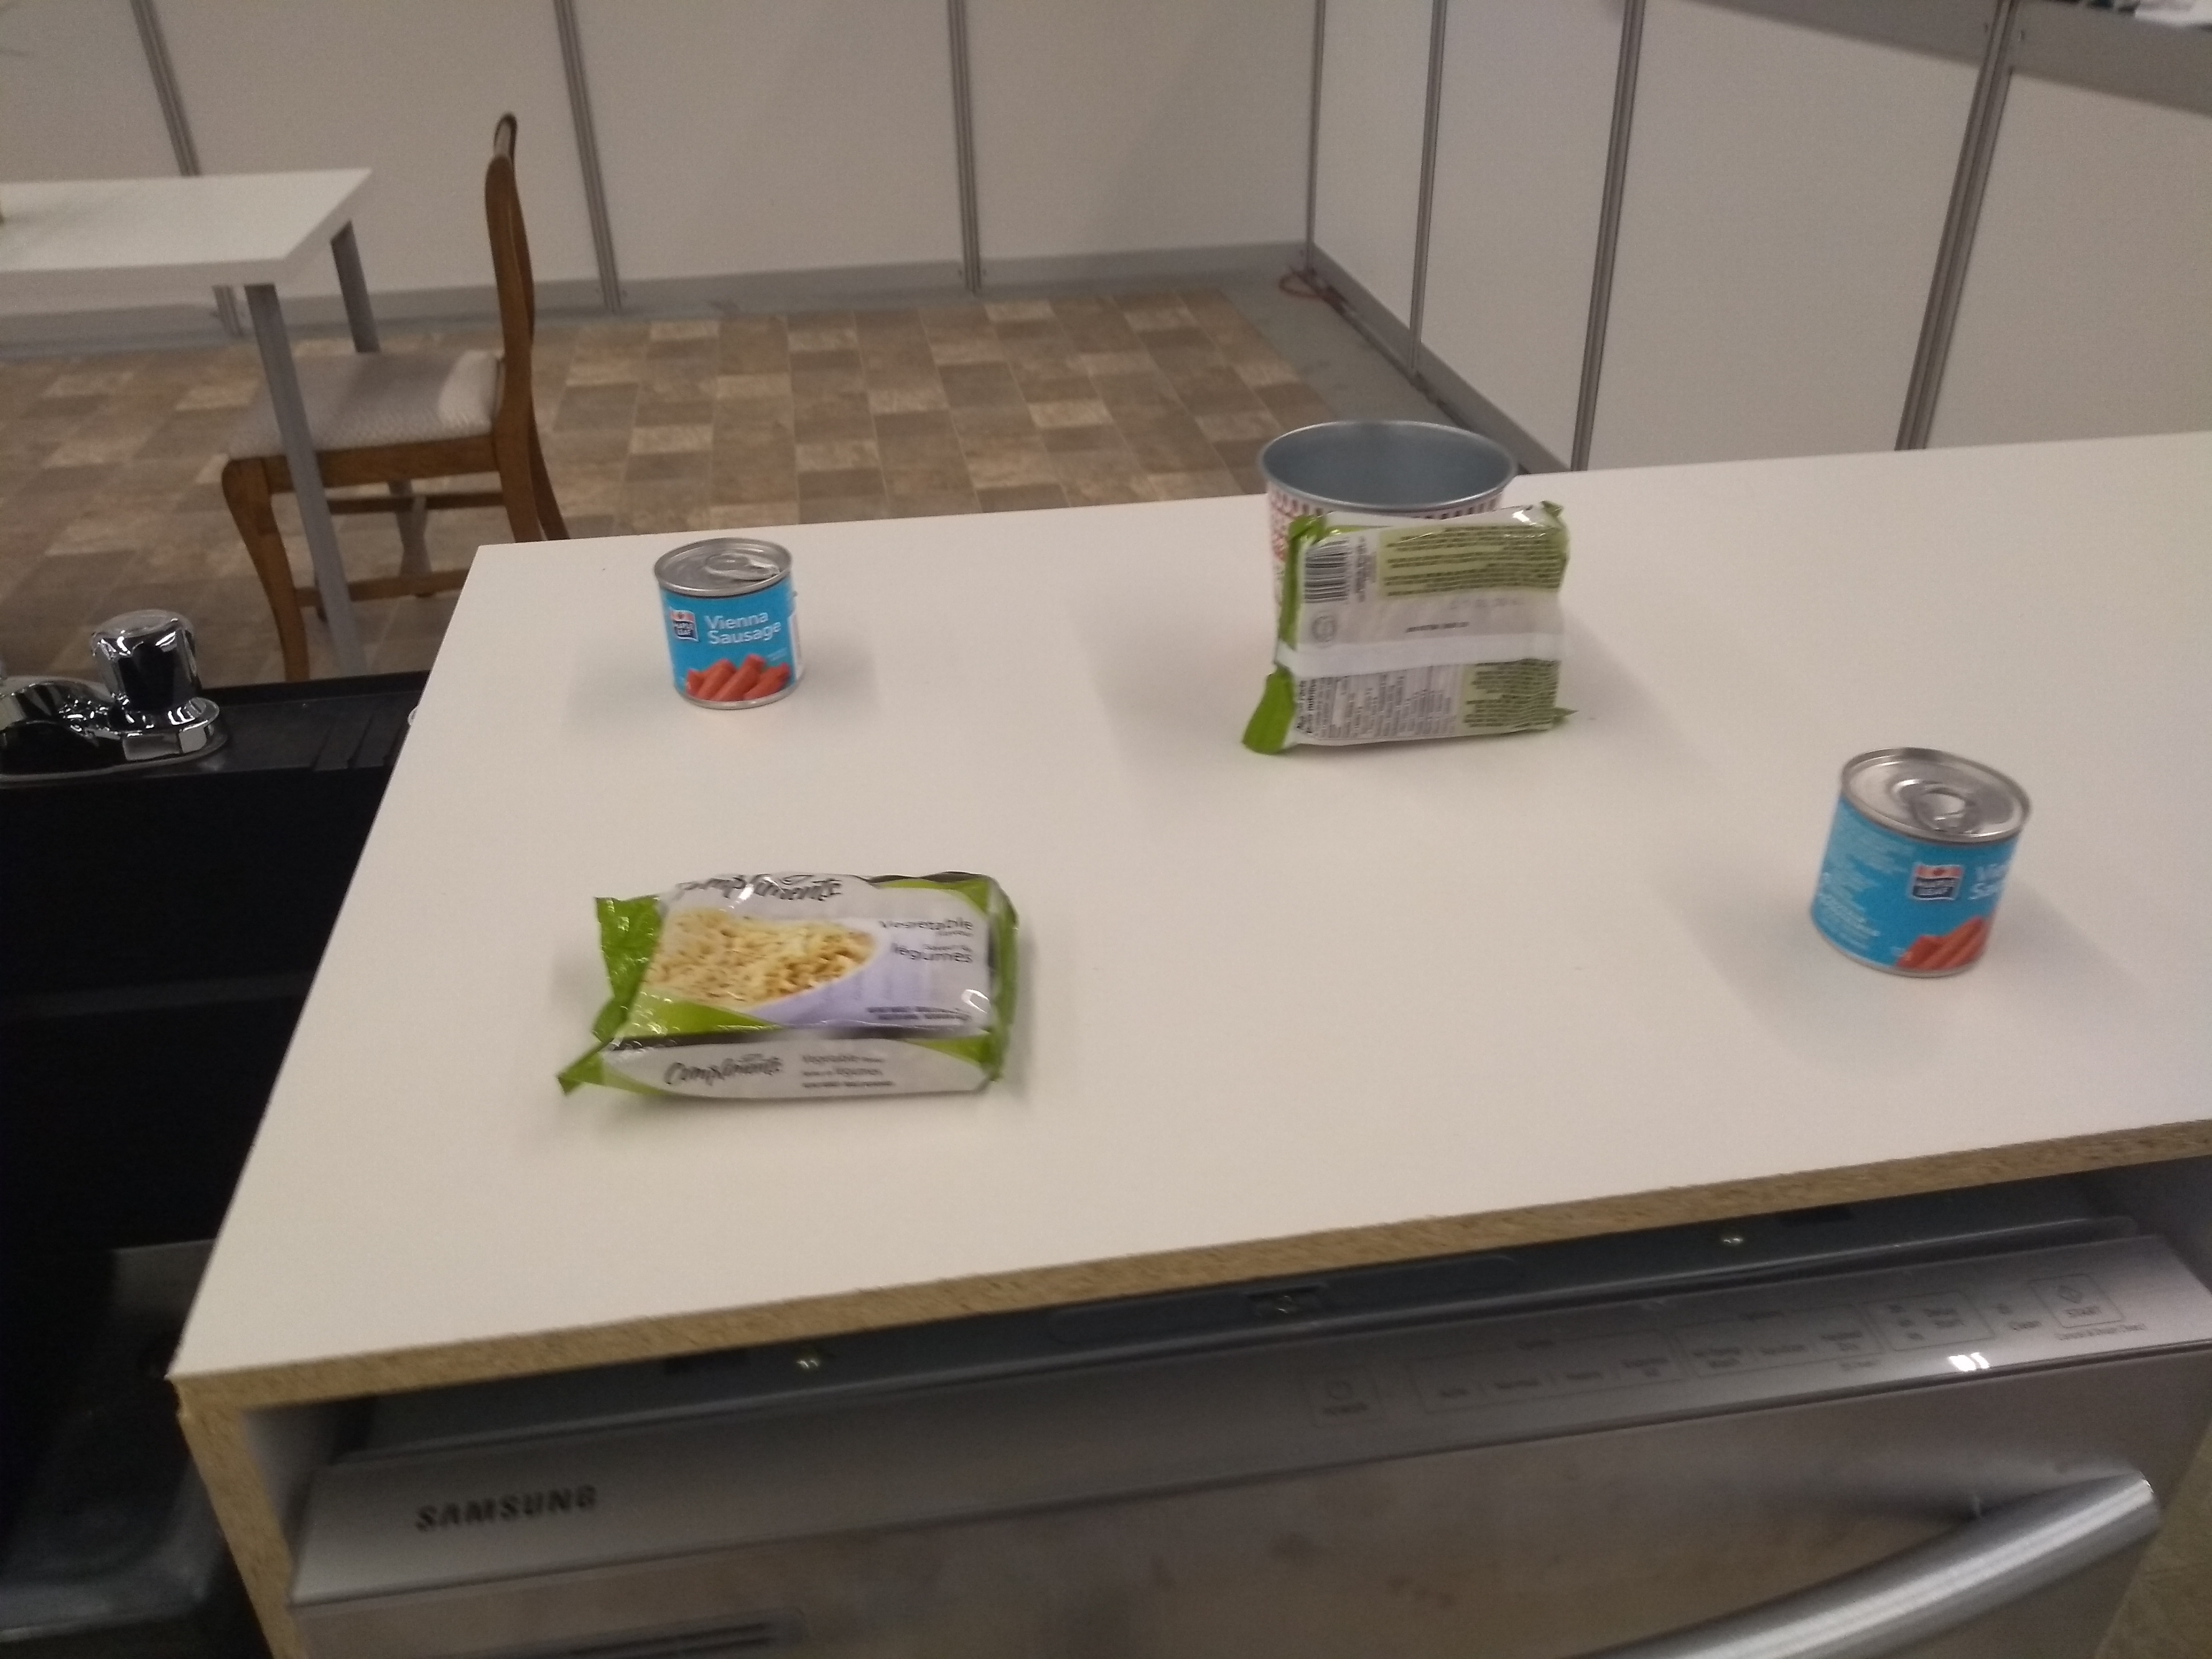noodles: (543, 859, 1035, 1122), (1235, 491, 1588, 767)
sausages: (1803, 737, 2036, 988), (643, 521, 817, 721)
